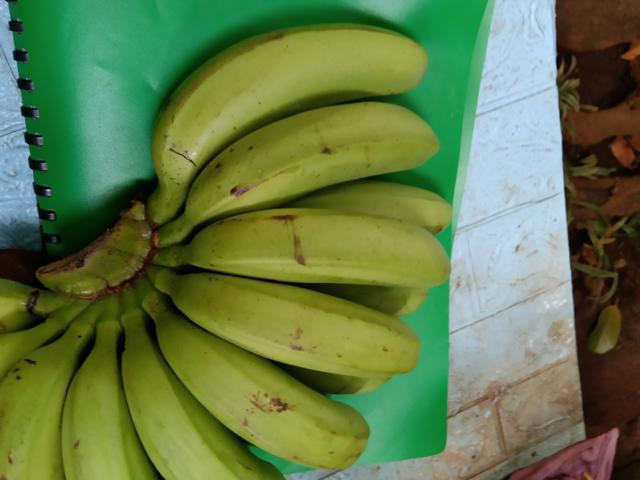freshunripe: (148, 15, 421, 200), (174, 94, 443, 218), (147, 211, 467, 294), (123, 334, 277, 479), (55, 335, 150, 479)
unripe: (148, 251, 428, 382), (160, 308, 372, 470), (0, 349, 77, 479)
